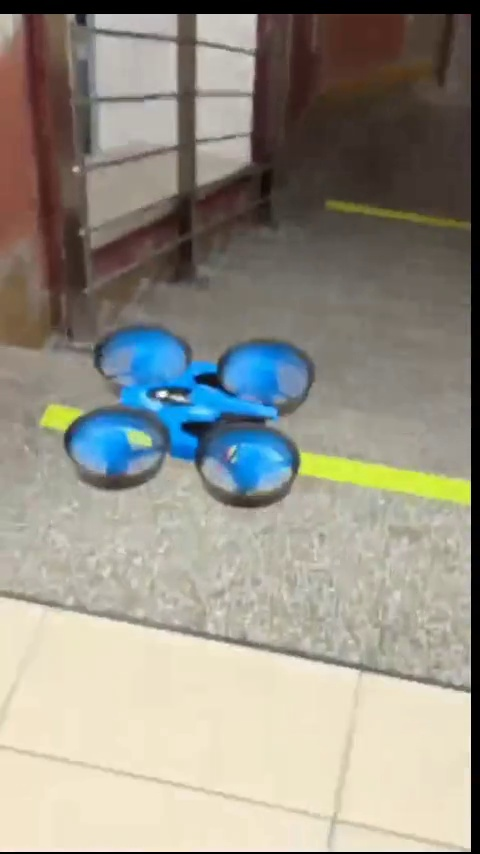drone: (81, 334, 313, 500)
